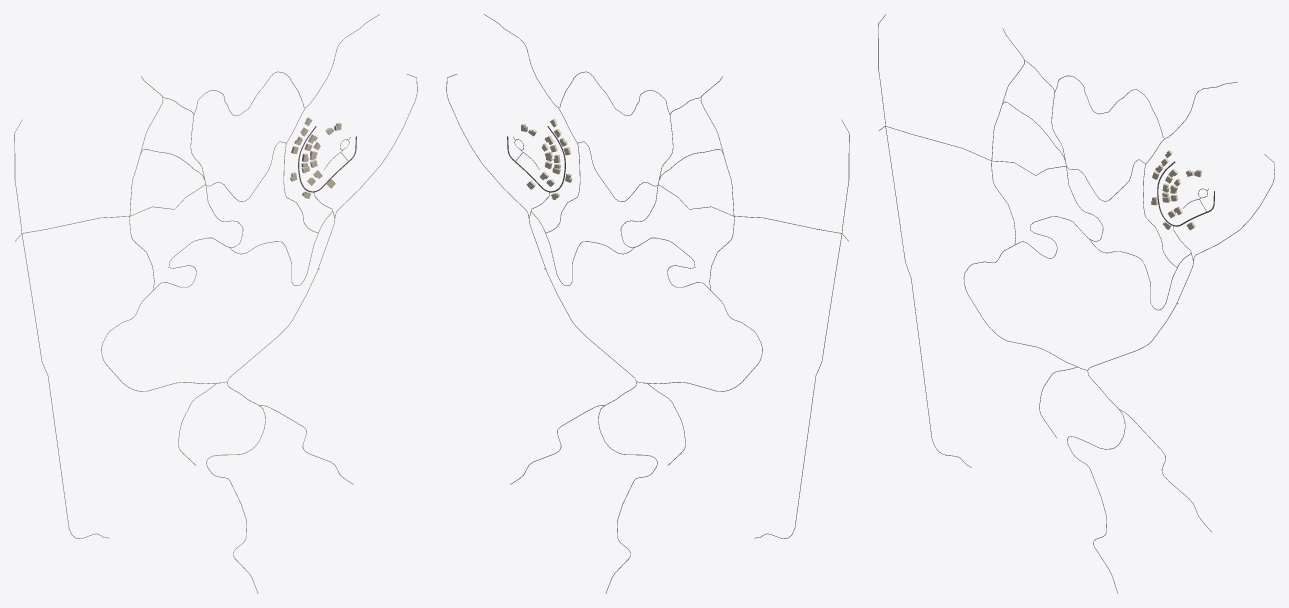
Rendered from historic-palestine-07_24_3491_3182.glb.
3 views of the same model, side by side, from view 1: azimuth 30°, elevation 25°; view 2: azimuth 150°, elevation 25°; view 3: azimuth 330°, elevation 25° (orthographic).
Parts seen in each view (by area): view 1: Road, Road .006; view 2: Road, Road .006; view 3: Road, Road .006.
Part boxes in pixels (<box>): Road: <box>206,74,417,593</box>; Road .006: <box>101,184,243,391</box>; Road: <box>446,74,657,593</box>; Road .006: <box>620,184,762,391</box>; Road: <box>1067,154,1274,593</box>; Road .006: <box>963,166,1103,370</box>.
Size of the model in its own units: 1090 by 1421 by 8.7.
